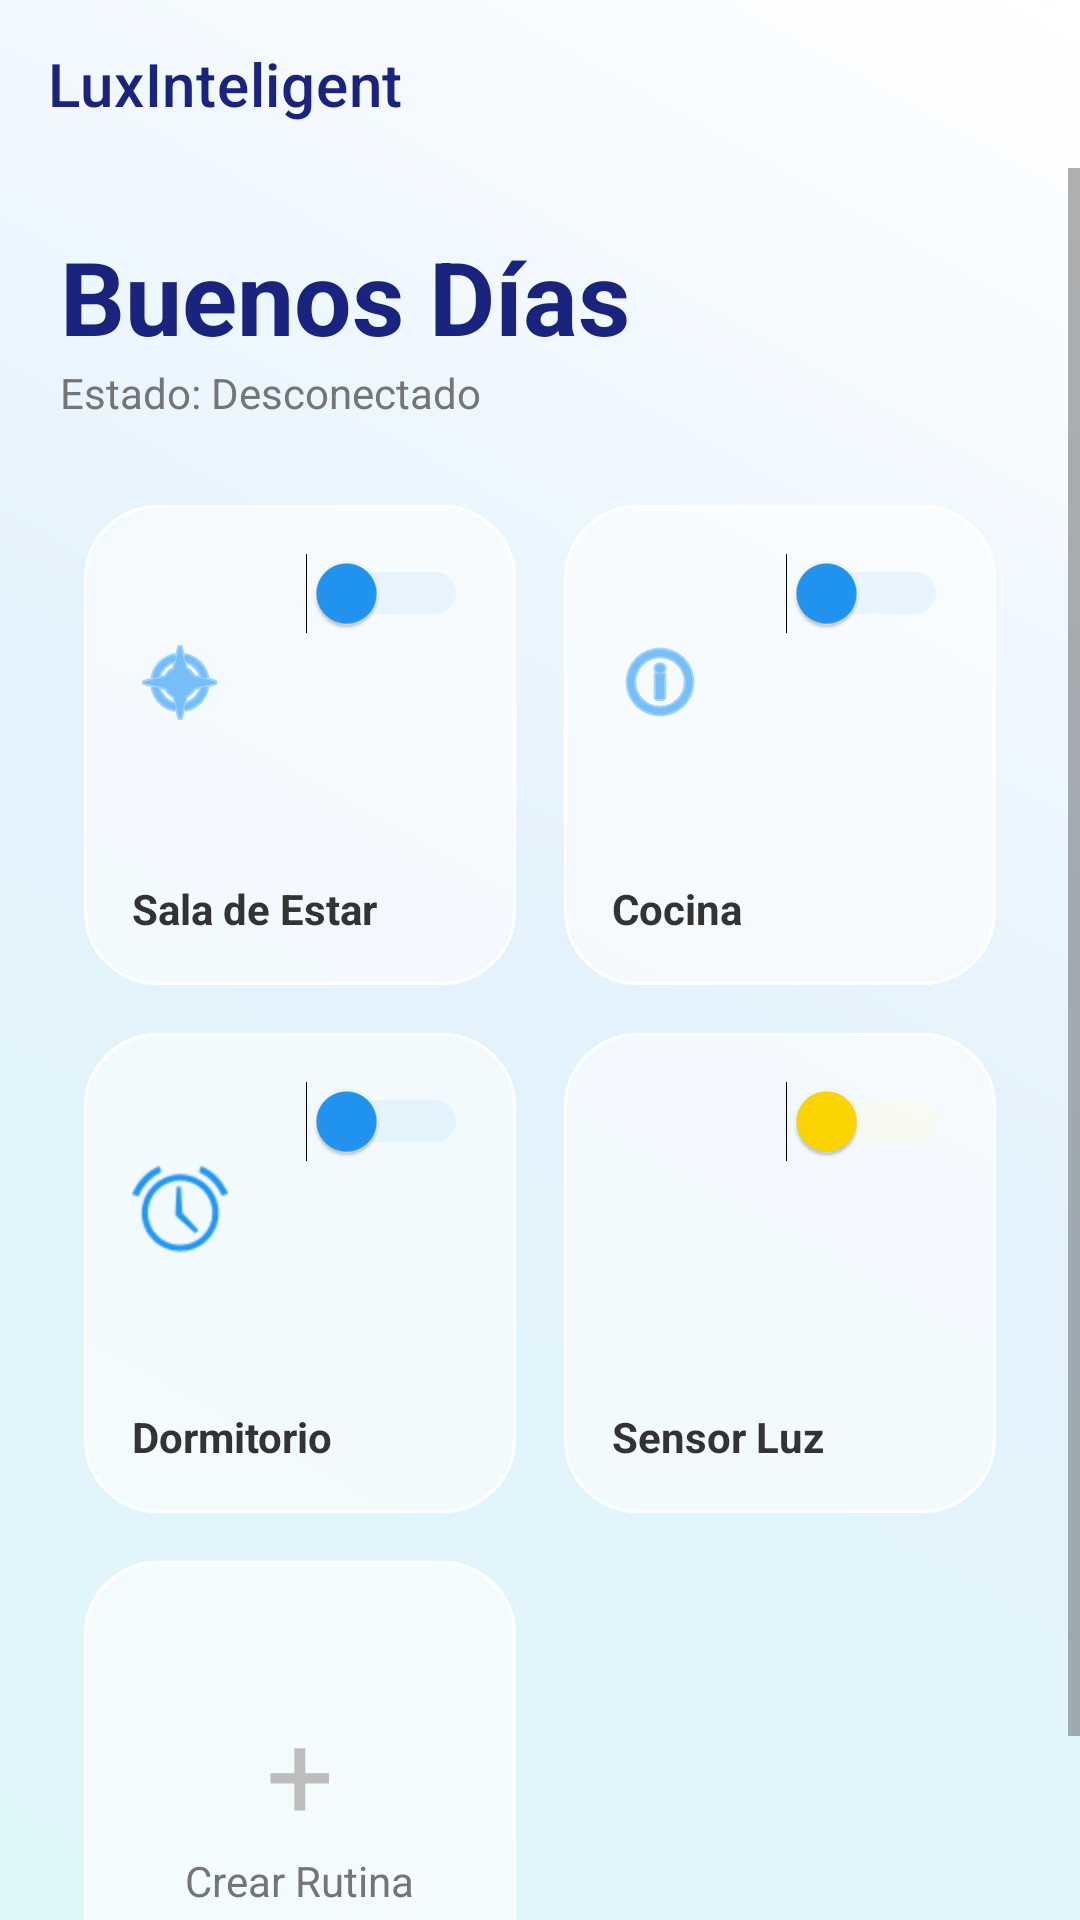

Named icons in this screenshot (1080x1920) and their bounding boxes, (x1, y1, x2, y2):
compass: (142, 645, 218, 720)
info details: (625, 648, 695, 717)
lock idle alarm: (132, 1165, 228, 1253)
